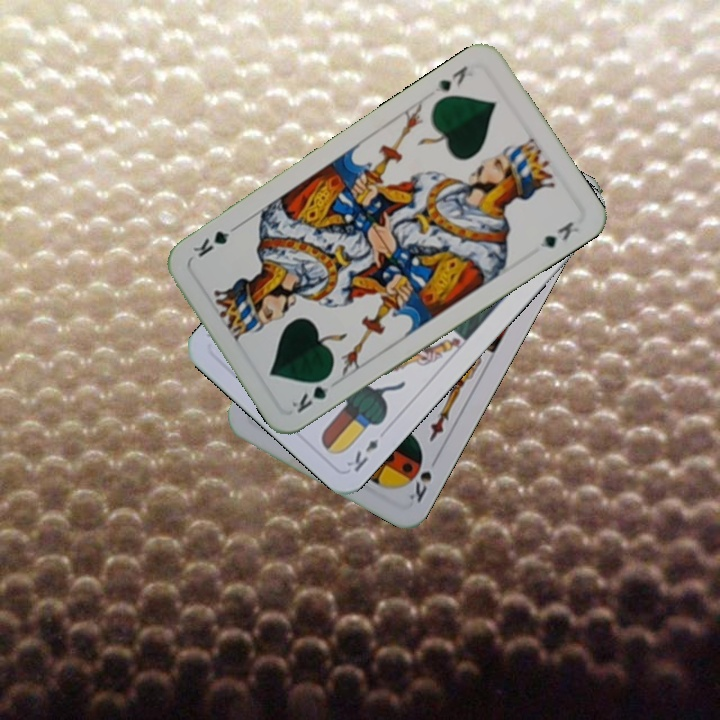EK: (342, 434, 382, 475)
GK: (287, 370, 335, 416), (430, 61, 471, 95)
SK: (405, 467, 435, 506)
